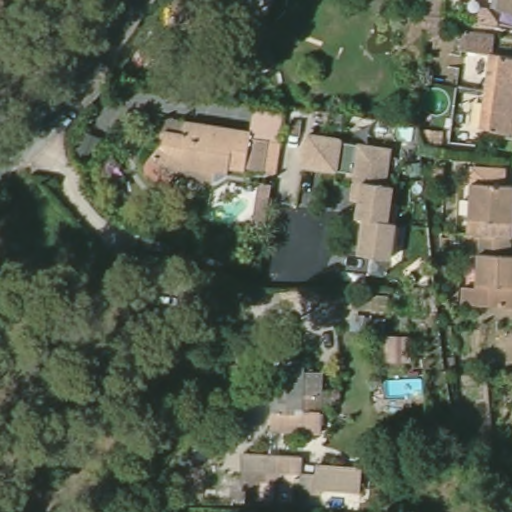pool: (199, 186, 255, 226), (381, 371, 432, 400), (421, 84, 451, 117)
